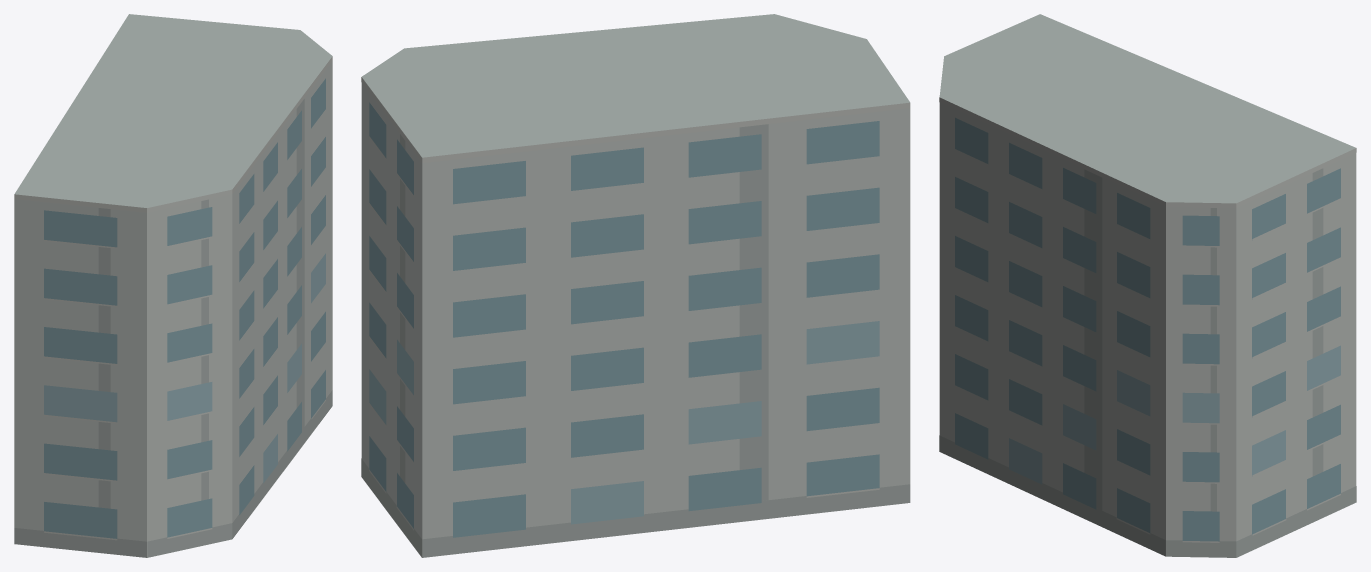
The model's file is survey-upis-32947017.glb.
3 views of the same model, side by side, from view 1: azimuth 30°, elevation 25°; view 2: azimuth 150°, elevation 25°; view 3: azimuth 270°, elevation 25° (orthographic). The views are drawn at different scales.
Visible parts, largest first — view 1: survey-upis-32947017.tmp; view 2: survey-upis-32947017.tmp; view 3: survey-upis-32947017.tmp.
Boxes of the visible parts, x1,y1,x2,y2 form: survey-upis-32947017.tmp: [14, 14, 332, 557]; survey-upis-32947017.tmp: [361, 14, 910, 557]; survey-upis-32947017.tmp: [939, 14, 1356, 557].
Bounding box in the file's own units: 20.32 × 17.73 × 18.91.
